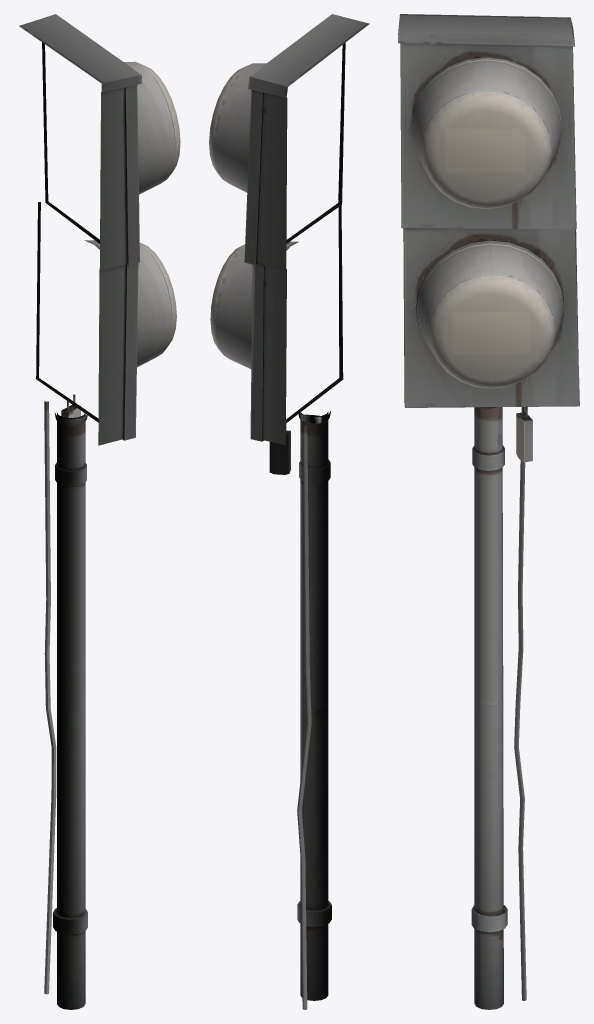
3 views of the same model, side by side, from view 1: azimuth 30°, elevation 25°; view 2: azimuth 150°, elevation 25°; view 3: azimuth 270°, elevation 25° (orthographic). The views are drawn at different scales.
Parts seen in each view (by area): view 1: body0_model0_lod0_mesh0; view 2: body0_model0_lod0_mesh0; view 3: body0_model0_lod0_mesh0.
Part boxes in pixels (x1,y1,x2,y2): body0_model0_lod0_mesh0: (19, 14, 180, 1009); body0_model0_lod0_mesh0: (209, 14, 369, 1009); body0_model0_lod0_mesh0: (398, 14, 579, 1009).
Bounding box in the file's own units: 11.18 × 103 × 17.34.
1 material, 1 textured.
